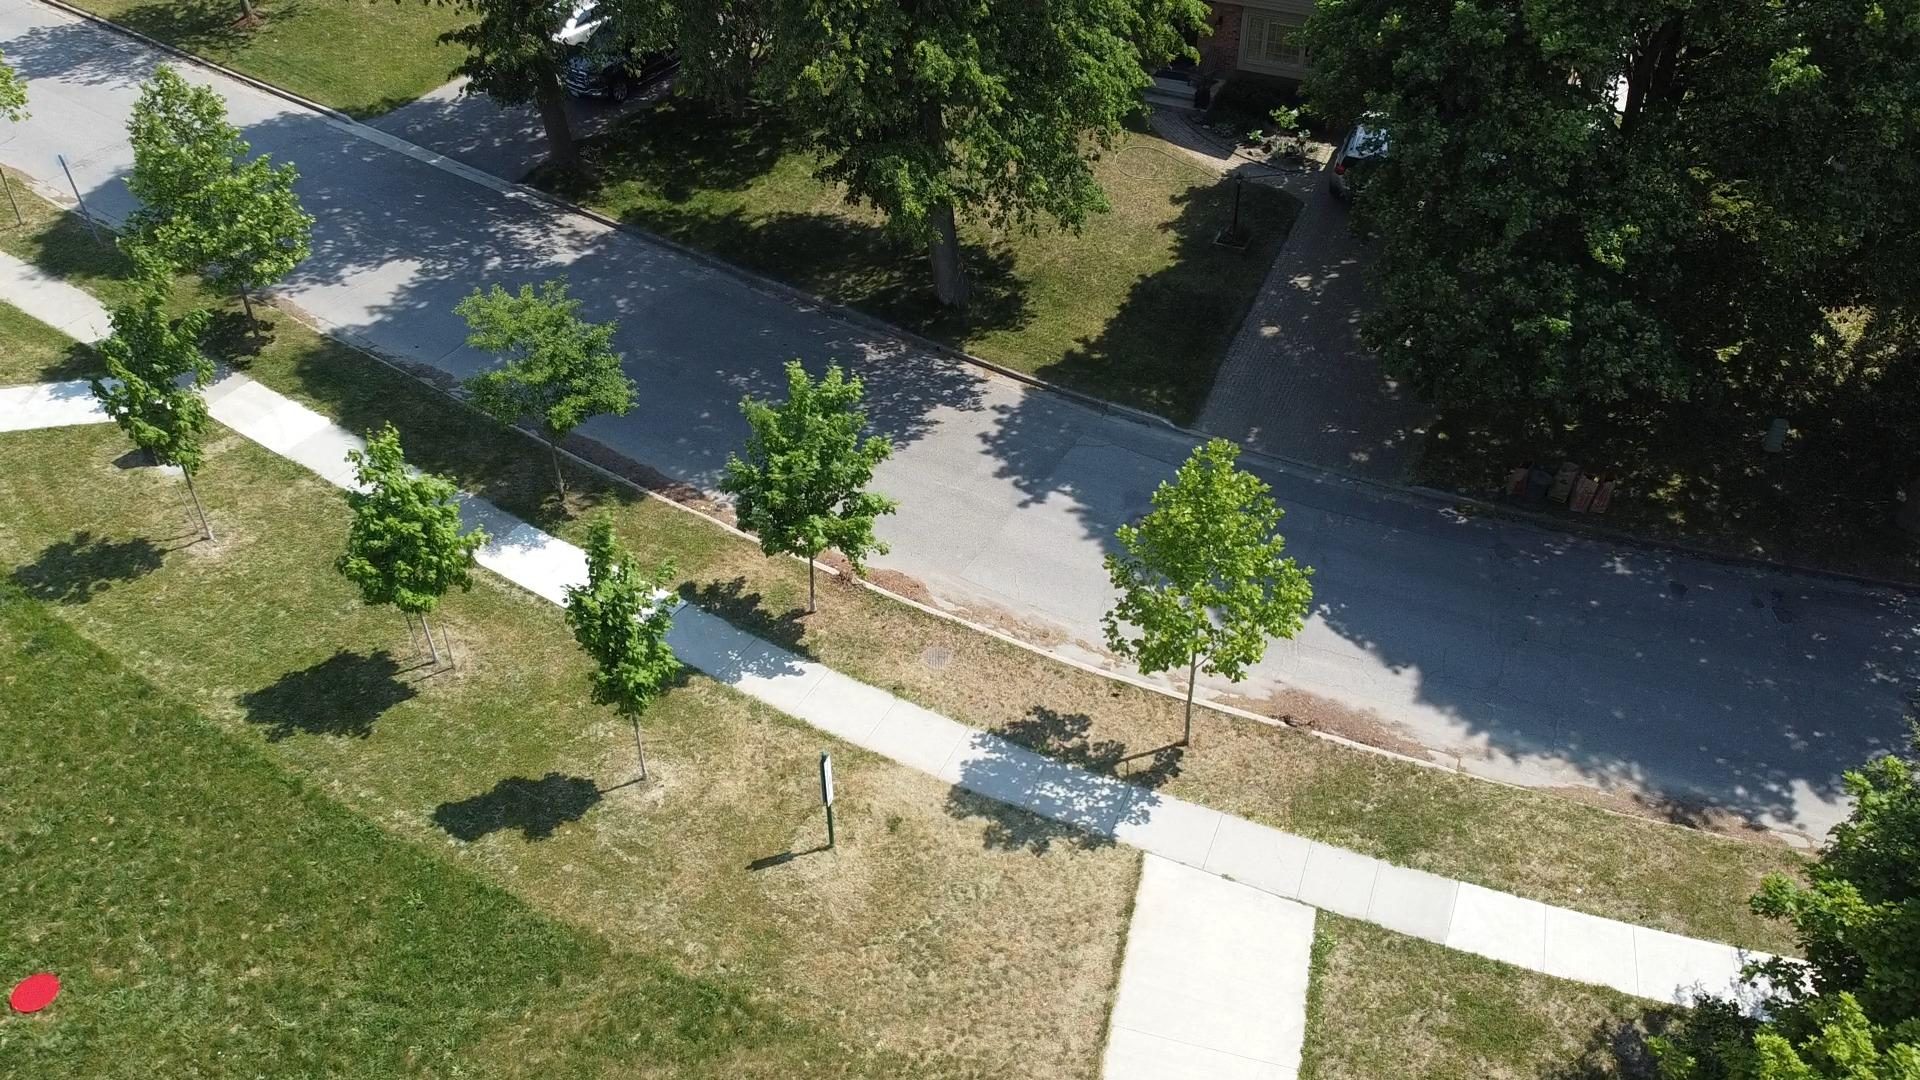Red: (10, 972, 60, 1013)
